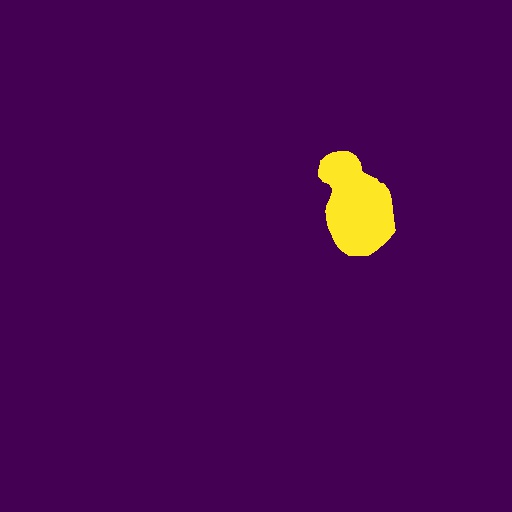Menigiomia_tumour: (318, 151, 396, 256)
